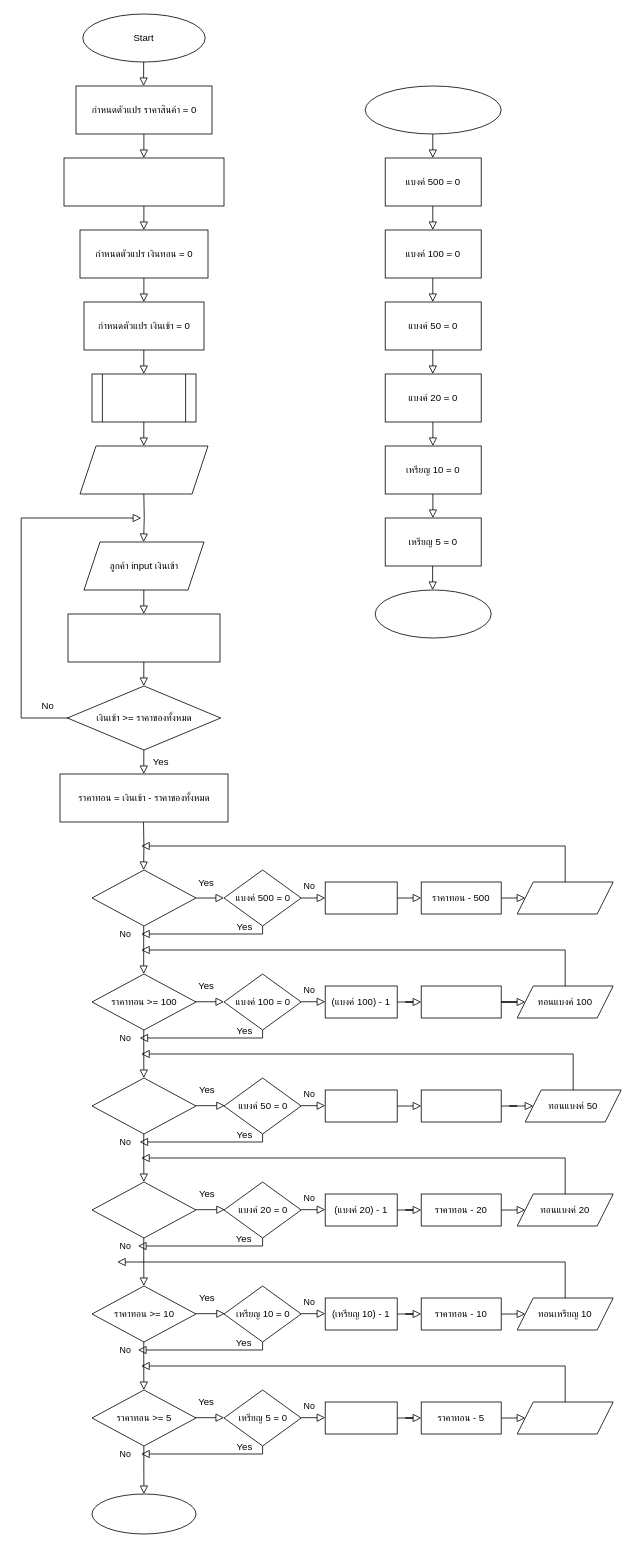
This 635x1548 diagram has some shape labels left out. Here are the shapes that lost their labels. From the top down, the centre of each, then its label:
pixel 432 109: Start จำนวนเงินในตู้
pixel 143 181: กำหนดตัวแปร ราคาสินค้าทั้งหมด = 0
pixel 143 397: จำนวนเงินในตู้
pixel 143 469: ลูกค้า input จำนวนของ
pixel 432 613: End จำนวนเงินในตู้
pixel 143 637: ราคาของทั้งหมด = จำนวนของ * 45
pixel 143 897: ราคาทอน >= 500
pixel 360 897: (แบงค์ 500) - 1
pixel 564 897: ทอนแบงค์ 500
pixel 460 1001: ราคาทอน - 100
pixel 143 1105: ราคาทอน >= 50
pixel 360 1105: (แบงค์ 50) - 1
pixel 460 1105: ราคาทอน - 50
pixel 143 1209: ราคาทอน >= 20
pixel 360 1417: (เหรียญ 5) - 1
pixel 564 1417: ทอนเหรียญ 5
pixel 143 1513: End
